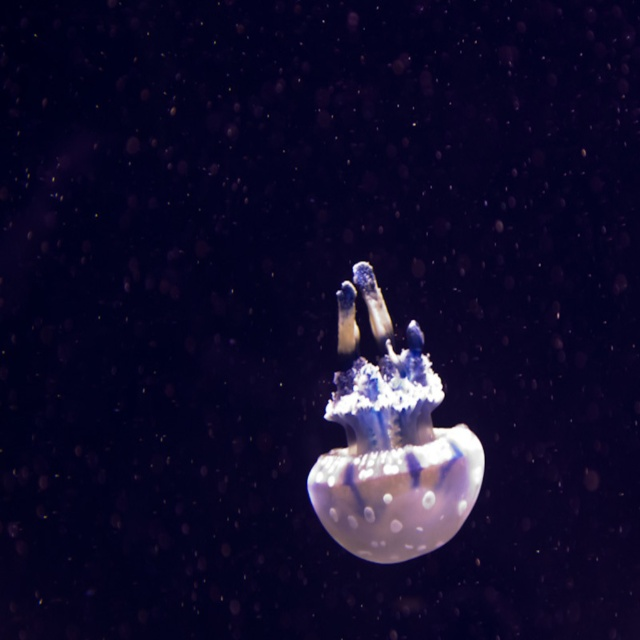Jellyfish: (306, 256, 486, 566)
